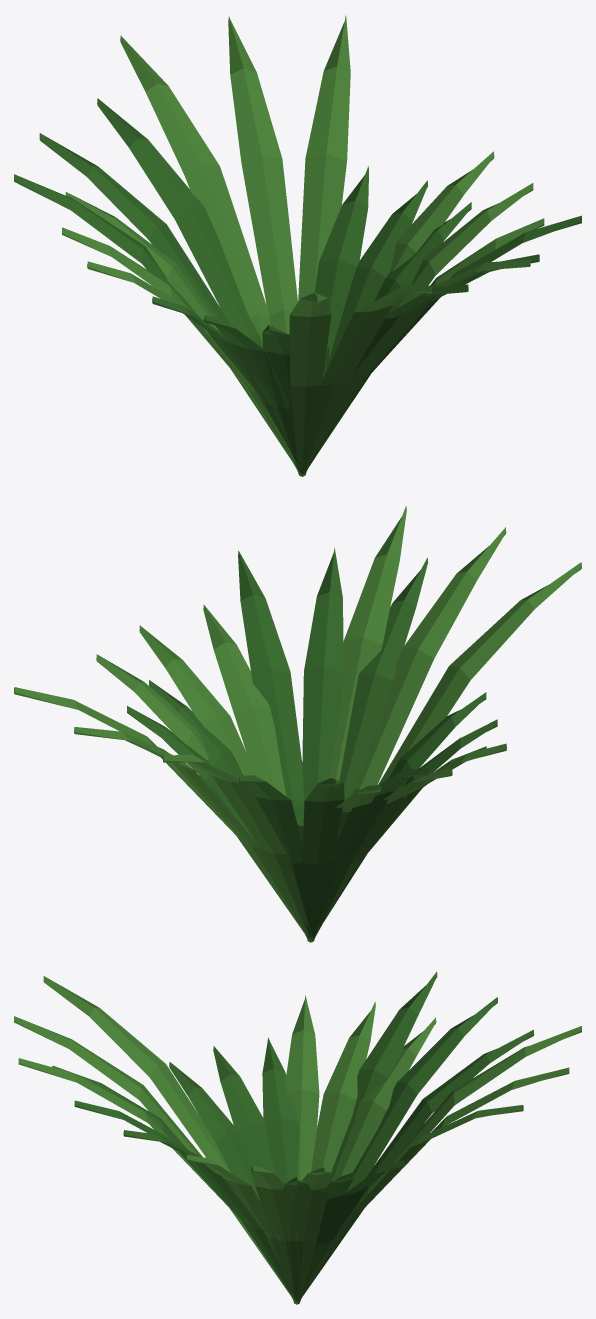
Rendered from source-edit.glb.
3 renders of one model, top to bottom at view 1: azimuth 30°, elevation 25°; view 2: azimuth 150°, elevation 25°; view 3: azimuth 270°, elevation 25°, orthographic. The views are drawn at different scales.
Visible parts, largest first — view 1: PANDAN_Blade_11, PANDAN_Blade_3, PANDAN_Blade_19, PANDAN_Blade_6, PANDAN_Blade_7, PANDAN_Blade_15, PANDAN_Blade_16, PANDAN_Blade_14, PANDAN_Blade_8, PANDAN_Blade_23, PANDAN_Blade_21, PANDAN_Blade_22 (+12 smaller); view 2: PANDAN_Blade_10, PANDAN_Blade_15, PANDAN_Blade_18, PANDAN_Blade_23, PANDAN_Blade_2, PANDAN_Blade_5, PANDAN_Blade_7, PANDAN_Blade_19, PANDAN_Blade_14, PANDAN_Blade_22, PANDAN_Blade_13, PANDAN_Blade_6 (+10 smaller); view 3: PANDAN_Blade_7, PANDAN_Blade_9, PANDAN_Blade_17, PANDAN_Blade_14, PANDAN_Blade_4, PANDAN_Blade_22, PANDAN_Blade_1, PANDAN_Blade_12, PANDAN_Blade_21, PANDAN_Blade_6, PANDAN_Blade_20, PANDAN_Blade_13 (+11 smaller).
Part boxes in pixels (<box>): PANDAN_Blade_11: <box>228,17,297,334</box>; PANDAN_Blade_3: <box>298,15,350,301</box>; PANDAN_Blade_19: <box>120,35,298,474</box>; PANDAN_Blade_6: <box>97,98,299,474</box>; PANDAN_Blade_7: <box>289,292,331,473</box>; PANDAN_Blade_15: <box>299,284,432,474</box>; PANDAN_Blade_16: <box>314,166,368,358</box>; PANDAN_Blade_14: <box>39,133,301,476</box>; PANDAN_Blade_8: <box>305,180,427,474</box>; PANDAN_Blade_23: <box>300,259,530,475</box>; PANDAN_Blade_21: <box>304,151,494,475</box>; PANDAN_Blade_22: <box>14,174,301,475</box>; PANDAN_Blade_10: <box>302,547,343,800</box>; PANDAN_Blade_15: <box>313,527,506,941</box>; PANDAN_Blade_18: <box>238,551,304,807</box>; PANDAN_Blade_23: <box>328,506,406,780</box>; PANDAN_Blade_2: <box>339,557,428,800</box>; PANDAN_Blade_5: <box>203,604,286,796</box>; PANDAN_Blade_7: <box>312,562,581,941</box>; PANDAN_Blade_19: <box>163,754,313,940</box>; PANDAN_Blade_14: <box>302,778,344,939</box>; PANDAN_Blade_22: <box>308,768,429,940</box>; PANDAN_Blade_13: <box>139,625,308,941</box>; PANDAN_Blade_6: <box>239,775,314,940</box>; PANDAN_Blade_7: <box>43,976,295,1303</box>; PANDAN_Blade_9: <box>311,1002,375,1174</box>; PANDAN_Blade_17: <box>285,995,319,1180</box>; PANDAN_Blade_14: <box>298,997,497,1303</box>; PANDAN_Blade_4: <box>262,1037,299,1183</box>; PANDAN_Blade_22: <box>330,971,437,1183</box>; PANDAN_Blade_1: <box>299,1017,436,1303</box>; PANDAN_Blade_12: <box>213,1046,294,1303</box>; PANDAN_Blade_21: <box>290,1167,330,1300</box>; PANDAN_Blade_6: <box>298,1029,534,1303</box>; PANDAN_Blade_20: <box>169,1062,295,1303</box>; PANDAN_Blade_13: <box>250,1166,299,1301</box>.
Bounding box in the file's own units: 0.8022 × 0.591 × 1.11.
